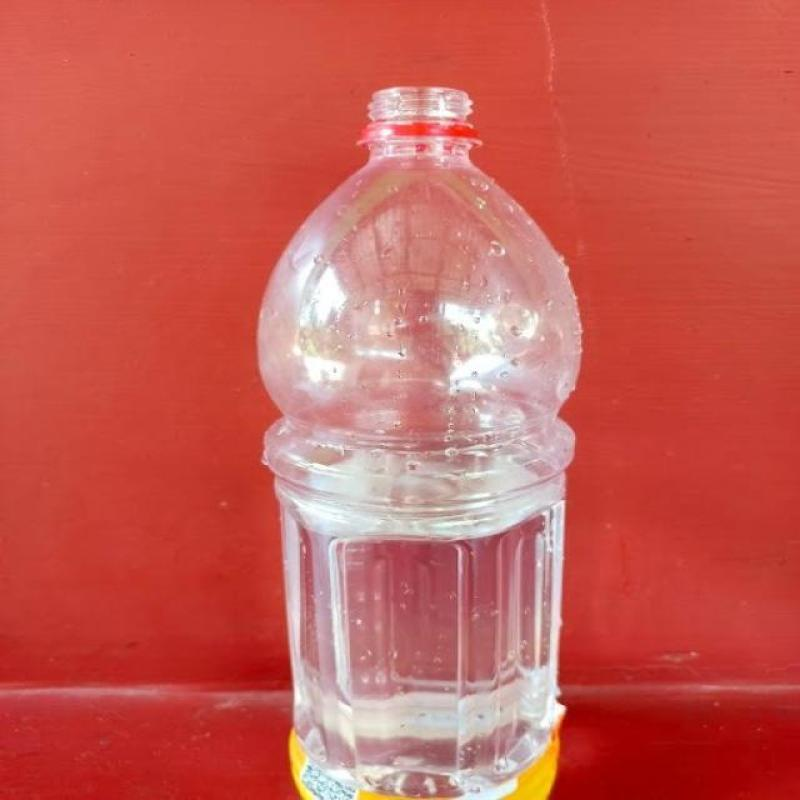botella: (256, 87, 588, 797)
